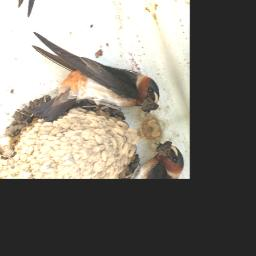Swallow: (25, 0, 165, 144)
